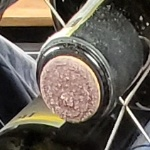bottle: (23, 25, 124, 134)
